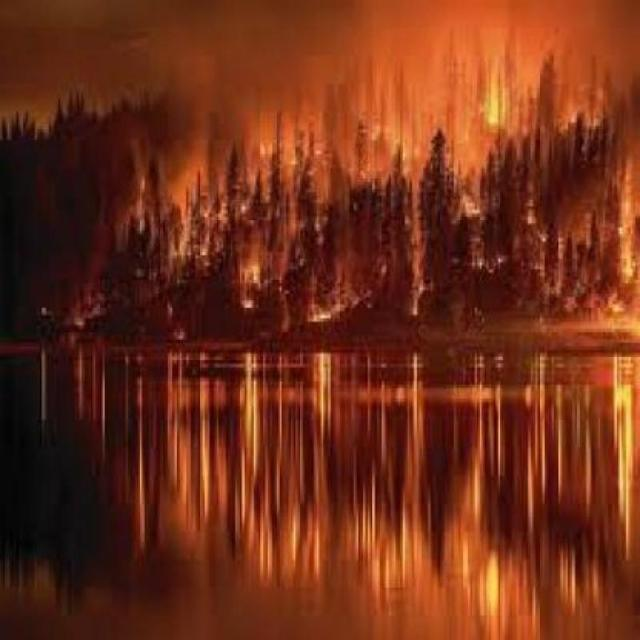Fire: (97, 71, 640, 346)
